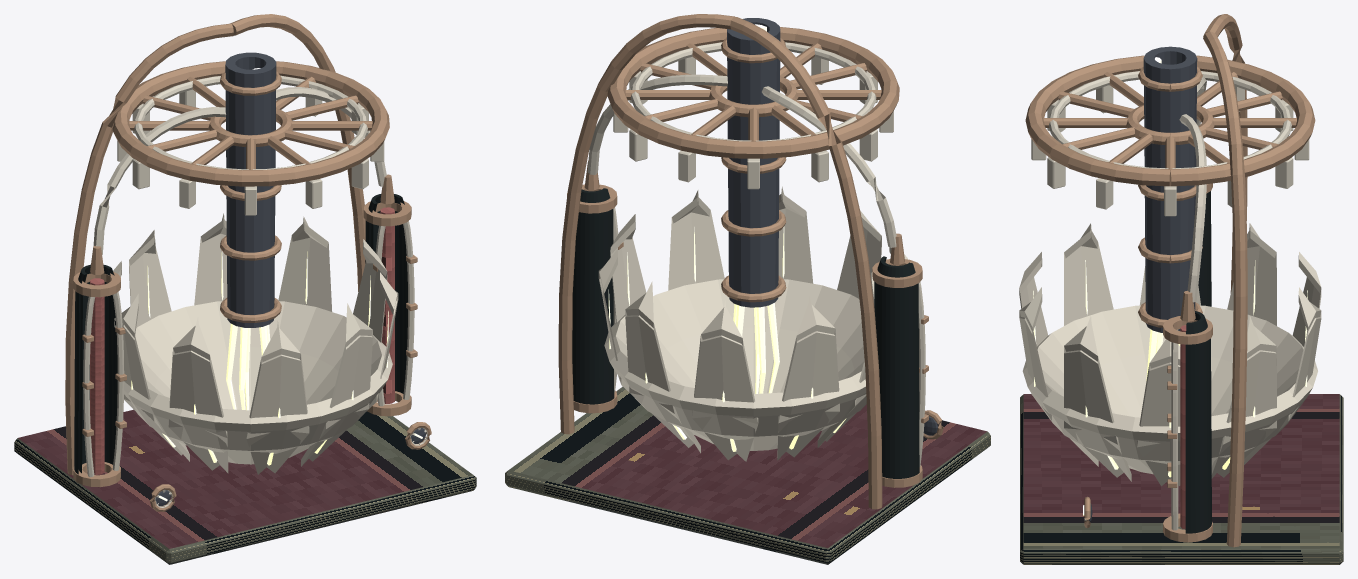
The model's file is foundry_slag_wheel.glb.
The picture shows the model from 3 angles, left to right: view 1: azimuth 30°, elevation 25°; view 2: azimuth 150°, elevation 25°; view 3: azimuth 270°, elevation 25°; orthographic projection. The views are drawn at different scales.
Visible parts, largest first — view 1: foundry_slag_wheel_warm, foundry_slag_wheel_petrol, foundry_slag_wheel_worn, foundry_slag_wheel_deep, foundry_slag_wheel_suture, foundry_slag_wheel_sick; view 2: foundry_slag_wheel_warm, foundry_slag_wheel_petrol, foundry_slag_wheel_worn, foundry_slag_wheel_deep, foundry_slag_wheel_sick; view 3: foundry_slag_wheel_warm, foundry_slag_wheel_petrol, foundry_slag_wheel_worn, foundry_slag_wheel_deep, foundry_slag_wheel_suture, foundry_slag_wheel_sick.
Boxes of the visible parts, left/top/right/bottom form: foundry_slag_wheel_warm: left=83, top=75, right=427, bottom=507; foundry_slag_wheel_petrol: left=14, top=194, right=476, bottom=564; foundry_slag_wheel_worn: left=65, top=14, right=431, bottom=511; foundry_slag_wheel_deep: left=154, top=52, right=425, bottom=506; foundry_slag_wheel_suture: left=90, top=207, right=394, bottom=474; foundry_slag_wheel_sick: left=131, top=68, right=422, bottom=501; foundry_slag_wheel_warm: left=587, top=42, right=938, bottom=466; foundry_slag_wheel_petrol: left=505, top=188, right=990, bottom=564; foundry_slag_wheel_worn: left=558, top=14, right=943, bottom=509; foundry_slag_wheel_deep: left=727, top=18, right=937, bottom=435; foundry_slag_wheel_sick: left=608, top=24, right=846, bottom=451; foundry_slag_wheel_warm: left=1019, top=71, right=1321, bottom=530; foundry_slag_wheel_petrol: left=1020, top=191, right=1343, bottom=564; foundry_slag_wheel_worn: left=1025, top=14, right=1315, bottom=547; foundry_slag_wheel_deep: left=1088, top=46, right=1197, bottom=522; foundry_slag_wheel_suture: left=1180, top=325, right=1186, bottom=529; foundry_slag_wheel_sick: left=1033, top=57, right=1307, bottom=515.
Size of the model in its own units: 5.67 by 7.16 by 4.61.
Materials: 6 (2 with a texture image).
